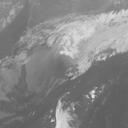cyclone: (28, 36, 92, 101)
